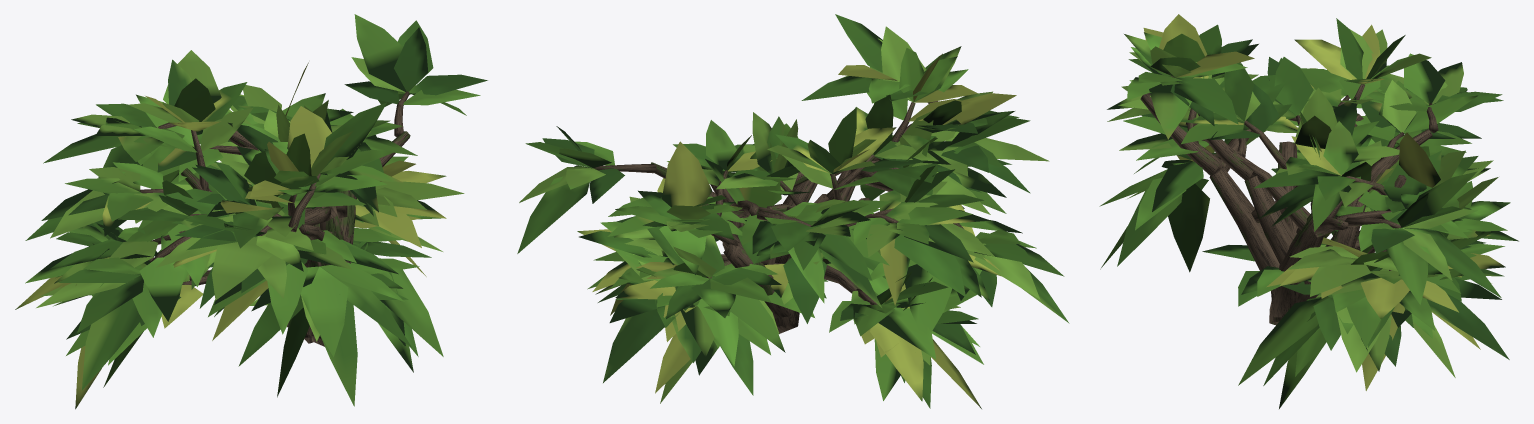
File: Shrub_Hazel.glb
The picture shows the model from 3 angles, left to right: view 1: azimuth 30°, elevation 25°; view 2: azimuth 150°, elevation 25°; view 3: azimuth 270°, elevation 25°; orthographic projection. The views are drawn at different scales.
Visible parts, largest first — view 1: Shrub_Hazel__Leaves, Shrub_Hazel__Stems; view 2: Shrub_Hazel__Leaves, Shrub_Hazel__Stems; view 3: Shrub_Hazel__Leaves, Shrub_Hazel__Stems.
Part boxes in pixels (<box>): Shrub_Hazel__Leaves: <box>15,14,487,409</box>; Shrub_Hazel__Stems: <box>140,91,410,346</box>; Shrub_Hazel__Leaves: <box>517,14,1069,408</box>; Shrub_Hazel__Stems: <box>593,101,963,333</box>; Shrub_Hazel__Leaves: <box>1099,14,1518,408</box>; Shrub_Hazel__Stems: <box>1140,76,1438,325</box>.
Bounding box in the file's own units: 12.09 × 7.73 × 9.36.
2 materials, 2 textured.
